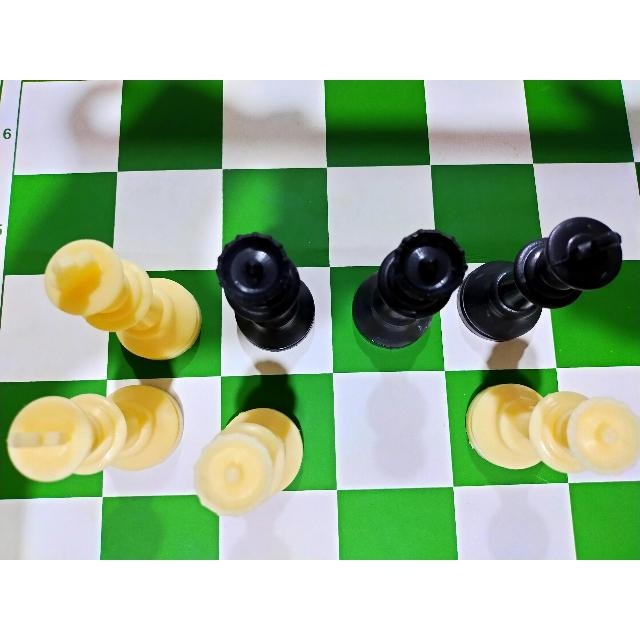black-king: (468, 208, 623, 341)
black-queen: (352, 227, 464, 355), (215, 229, 319, 353)
white-king: (37, 234, 205, 362), (7, 384, 187, 480)
white-queen: (459, 380, 639, 484), (195, 406, 305, 516)
